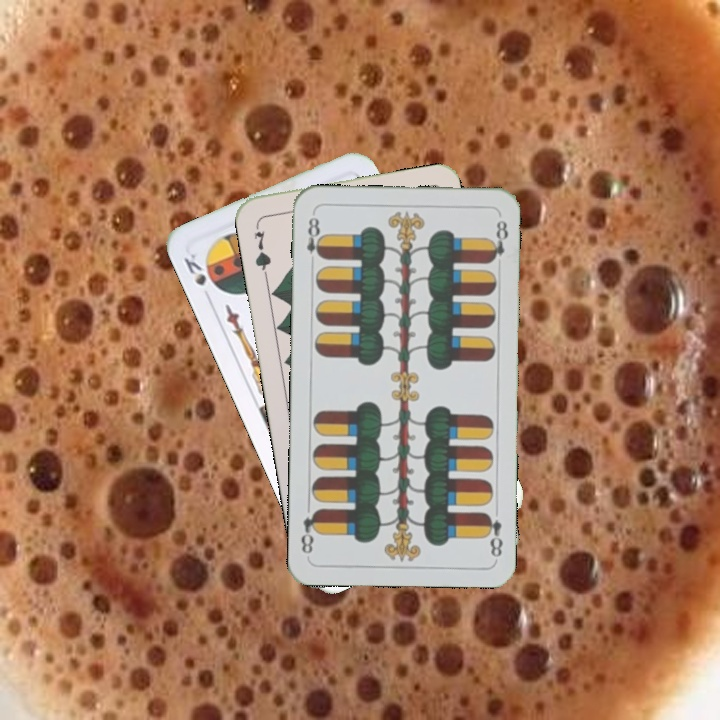E8: (481, 508, 506, 560), (302, 210, 326, 261)
G7: (250, 219, 274, 278)
SK: (179, 249, 221, 295)
